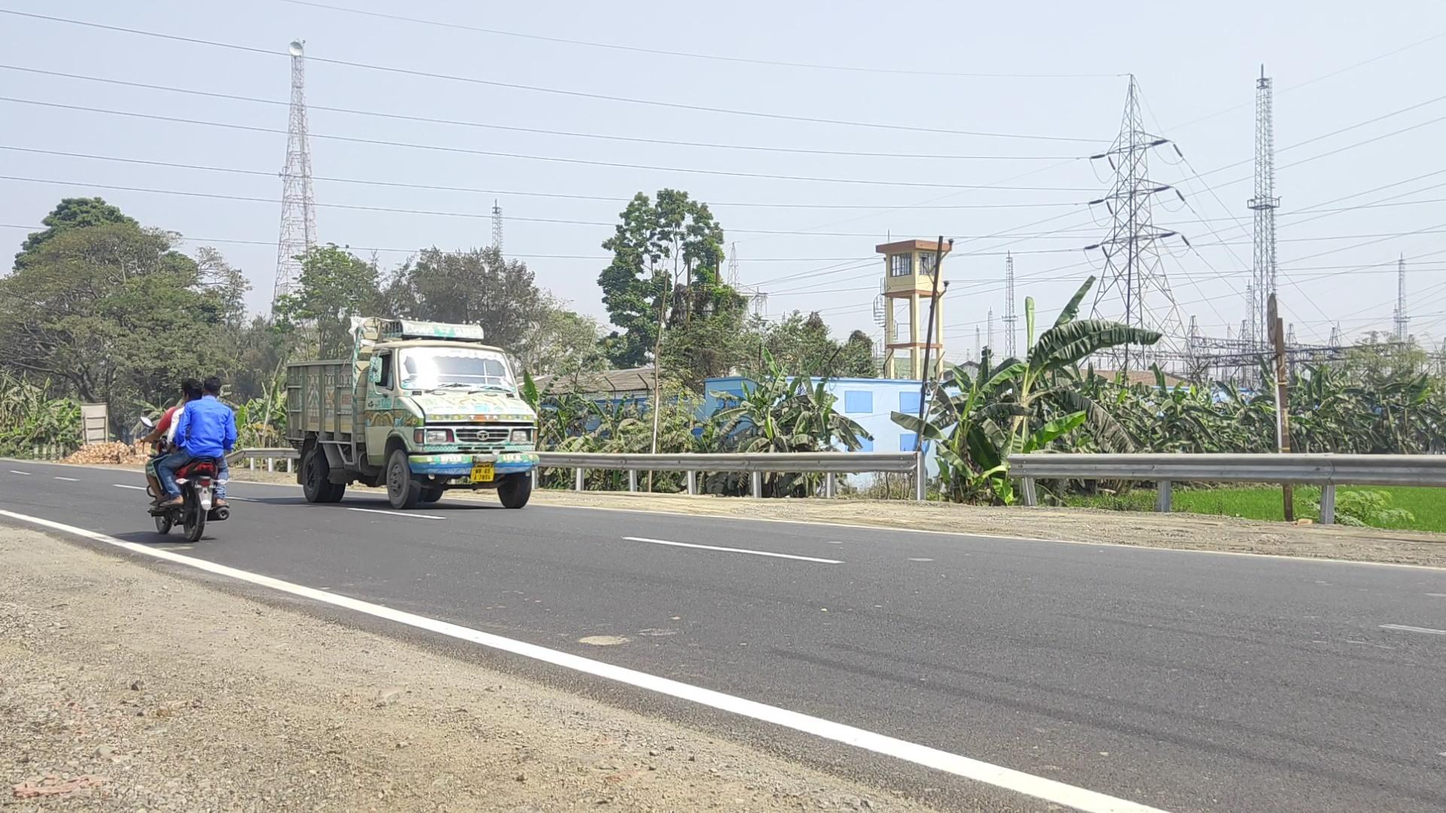bike: (139, 375, 236, 542)
truck: (287, 316, 539, 510)
